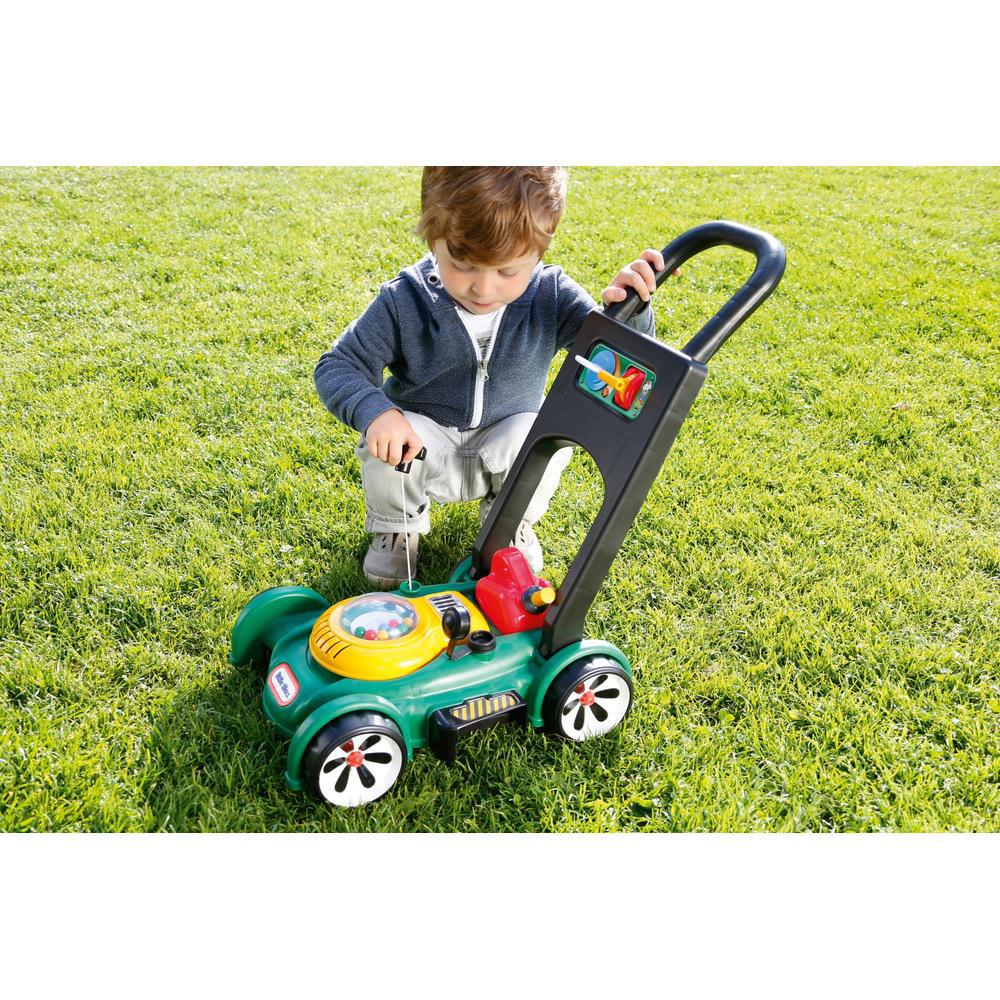child: (329, 160, 586, 579)
